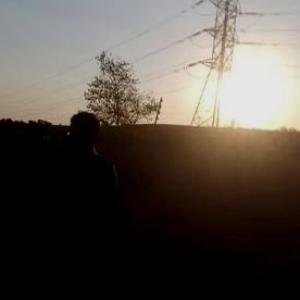follow: (36, 101, 129, 299)
